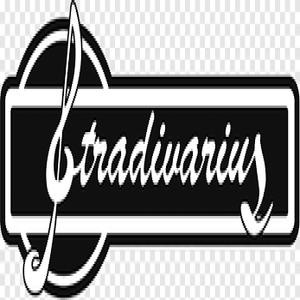stradivarius: (286, 2, 294, 6)
